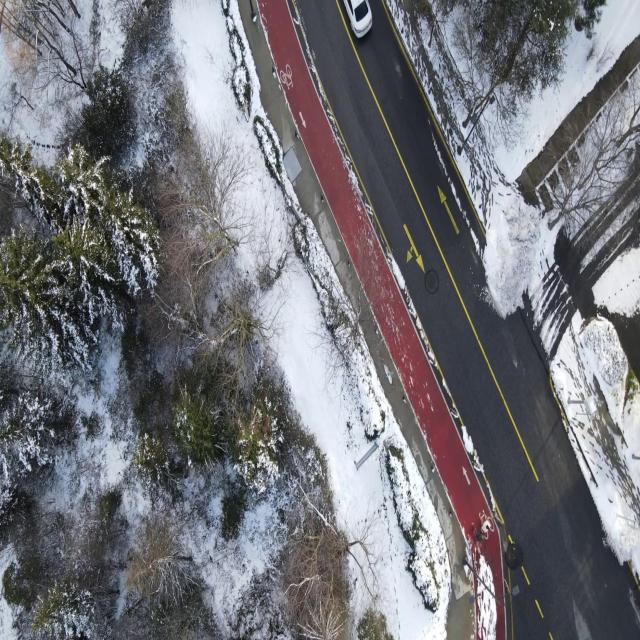p3rson: (472, 522, 484, 542), (481, 520, 490, 534)
